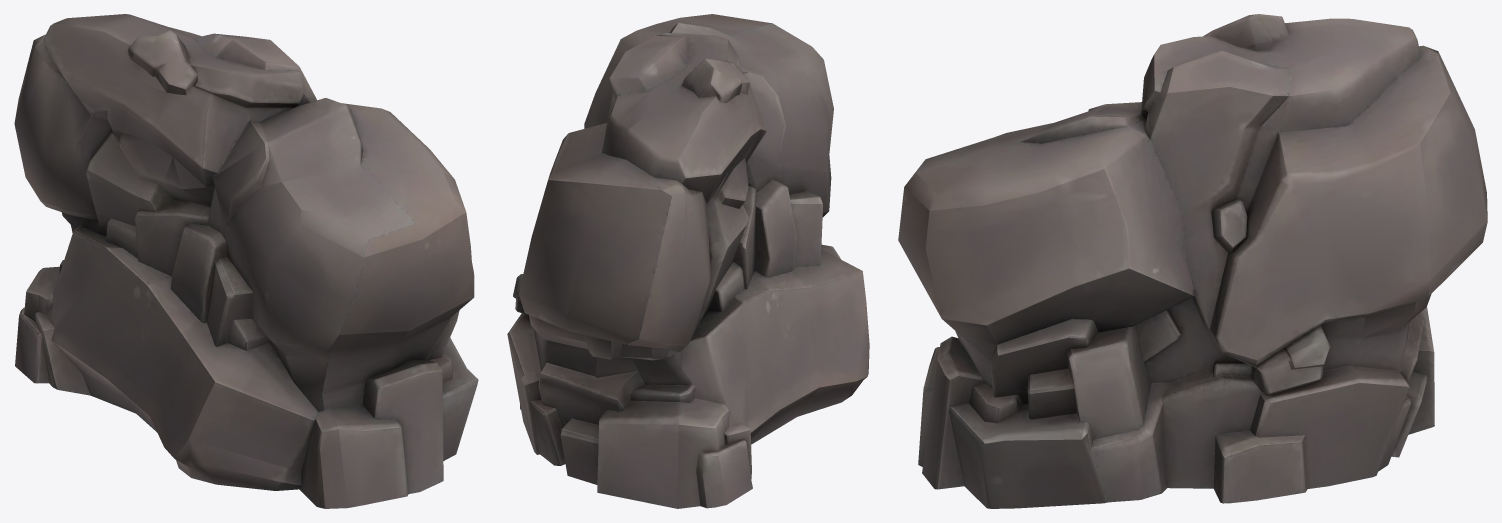
The picture shows the model from 3 angles, left to right: view 1: azimuth 30°, elevation 25°; view 2: azimuth 150°, elevation 25°; view 3: azimuth 270°, elevation 25°; orthographic projection. The views are drawn at different scales.
Visible parts, largest first — view 1: body0_model0_lod0_mesh0; view 2: body0_model0_lod0_mesh0; view 3: body0_model0_lod0_mesh0.
Part boxes in pixels (<box>): body0_model0_lod0_mesh0: <box>14,14,478,508</box>; body0_model0_lod0_mesh0: <box>507,14,869,508</box>; body0_model0_lod0_mesh0: <box>898,14,1487,508</box>.
Size of the model in its own units: 326 by 404 by 528.
1 material, 1 textured.
